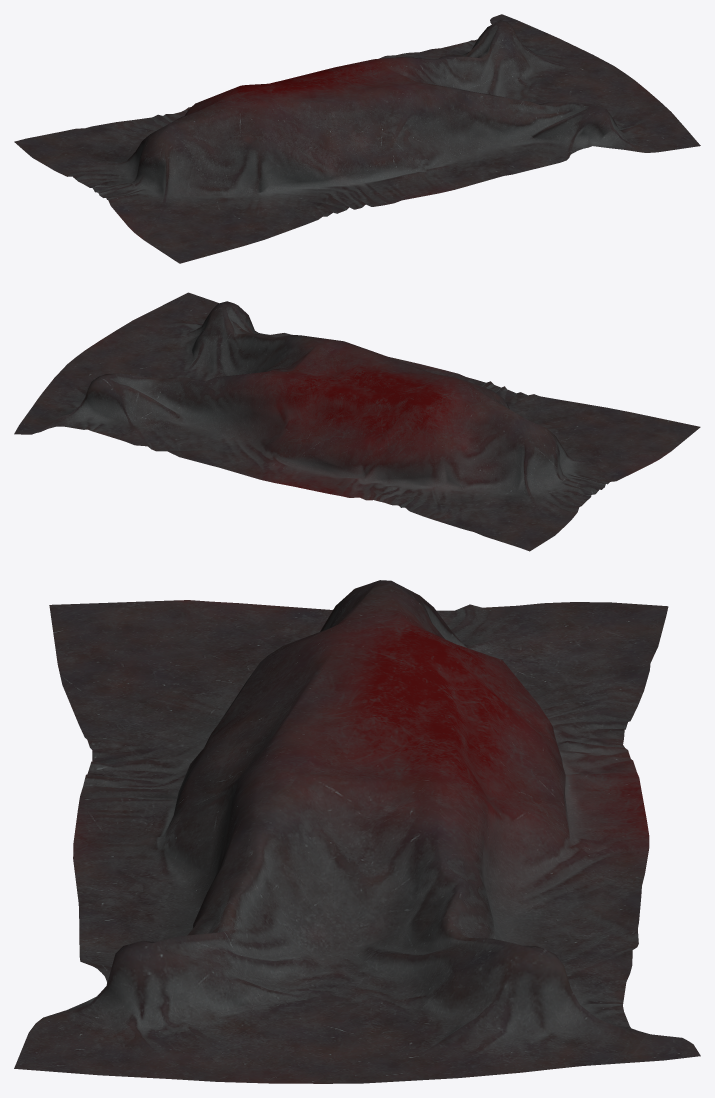
Rendered from low_poly_dead_body_covered_game_ready.glb.
The picture shows the model from 3 angles, top to bottom: view 1: azimuth 30°, elevation 25°; view 2: azimuth 150°, elevation 25°; view 3: azimuth 270°, elevation 25°; orthographic projection. The views are drawn at different scales.
Visible parts, largest first — view 1: DeadBodyCovered; view 2: DeadBodyCovered; view 3: DeadBodyCovered.
Boxes of the visible parts, box(x1,y1,x2,y2) form: DeadBodyCovered: box(14, 14, 700, 263); DeadBodyCovered: box(14, 292, 700, 551); DeadBodyCovered: box(14, 580, 700, 1083).
Bounding box in the file's own units: 2.43 × 0.2823 × 1.46.
Materials: 1 (1 with a texture image).
